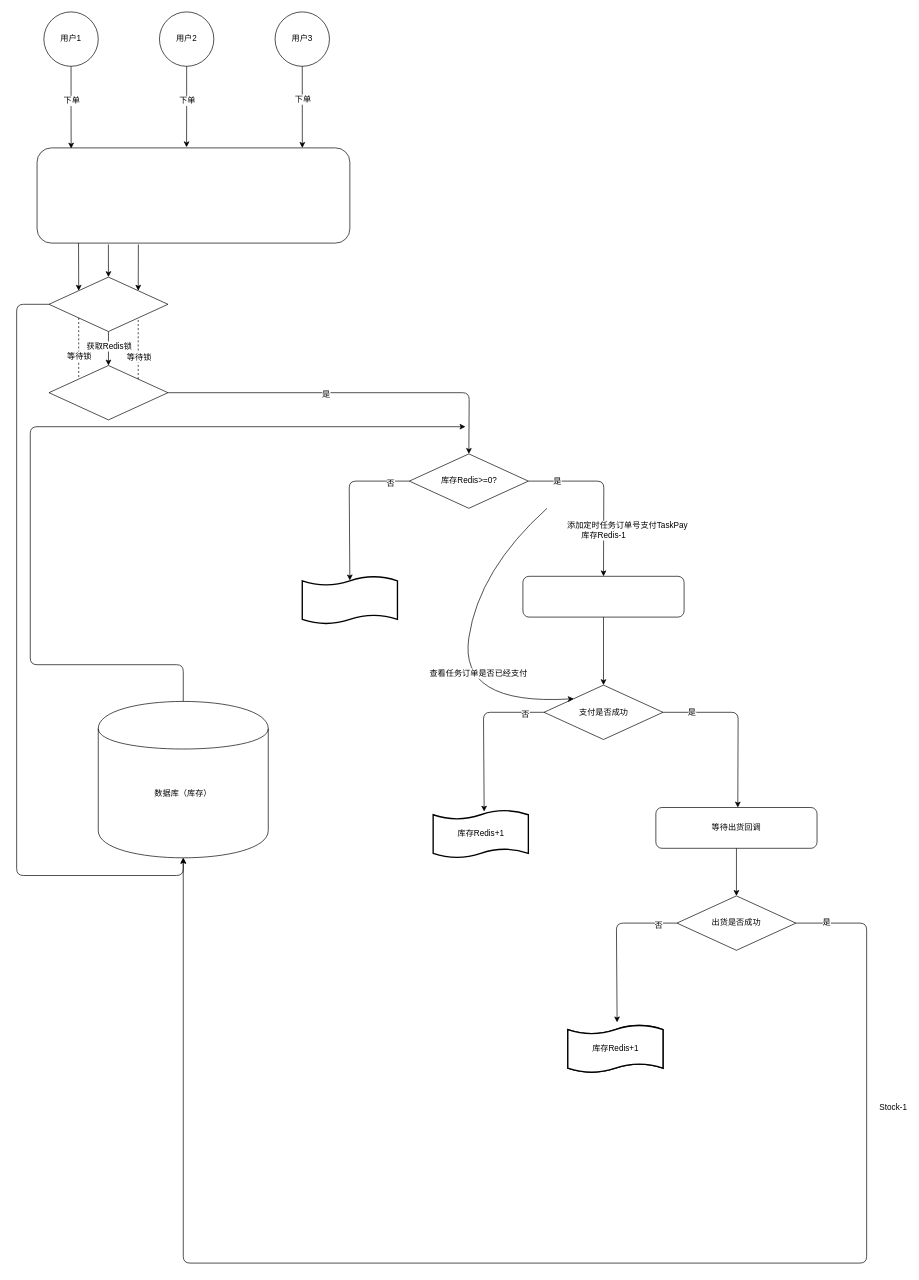
Image size: 919x1280. Some labels were removed from this diagram. The shapes that lost their labels are listed below. From the top down, each one's centre as x and y in pixels, then its label:
At point 193,195: "vending.API(CheckOut)".
At point 108,304: "库存充足？".
At point 108,392: "Redis是否有值？".
At point 349,599: "提醒库存不足".
At point 603,596: "等待支付".
